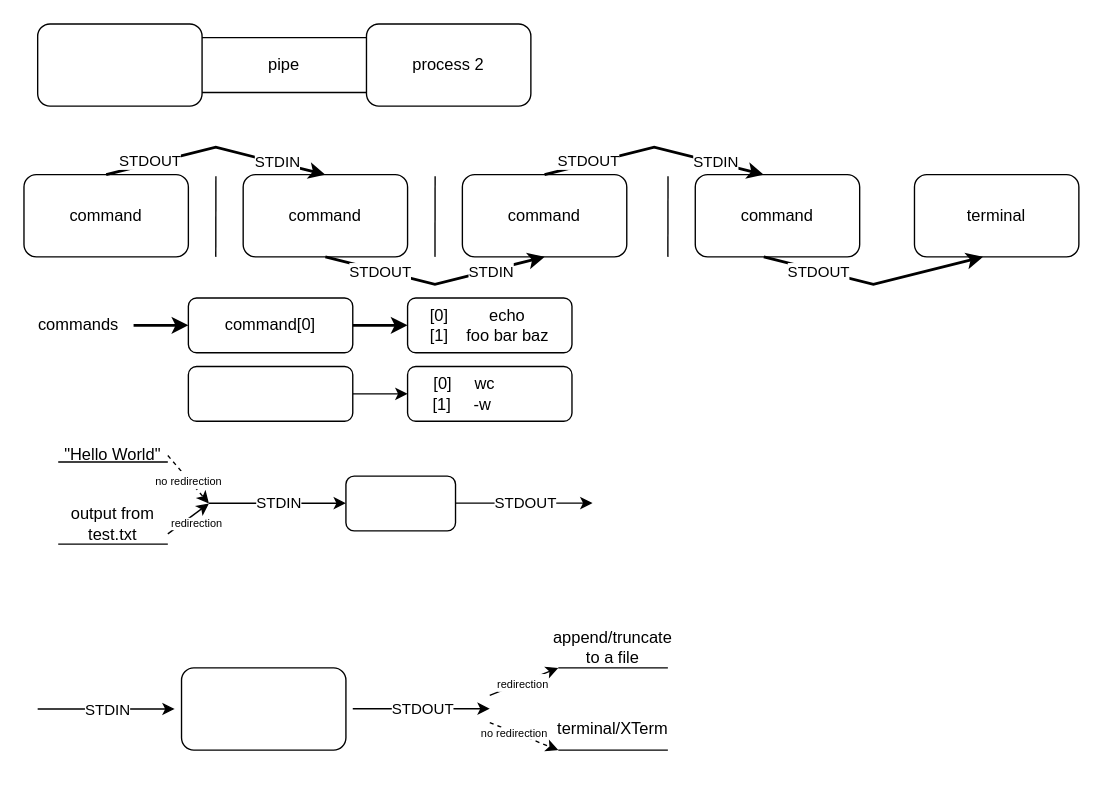
Image size: 1103x785. Some labels were removed from this diagram. Each missing label, with the centre of its shape:
"command[1]" goes at pixel 270 393.
"output from command" goes at pixel 263 708.
"process 1" goes at pixel 119 64.
"tr" goes at pixel 400 503.
